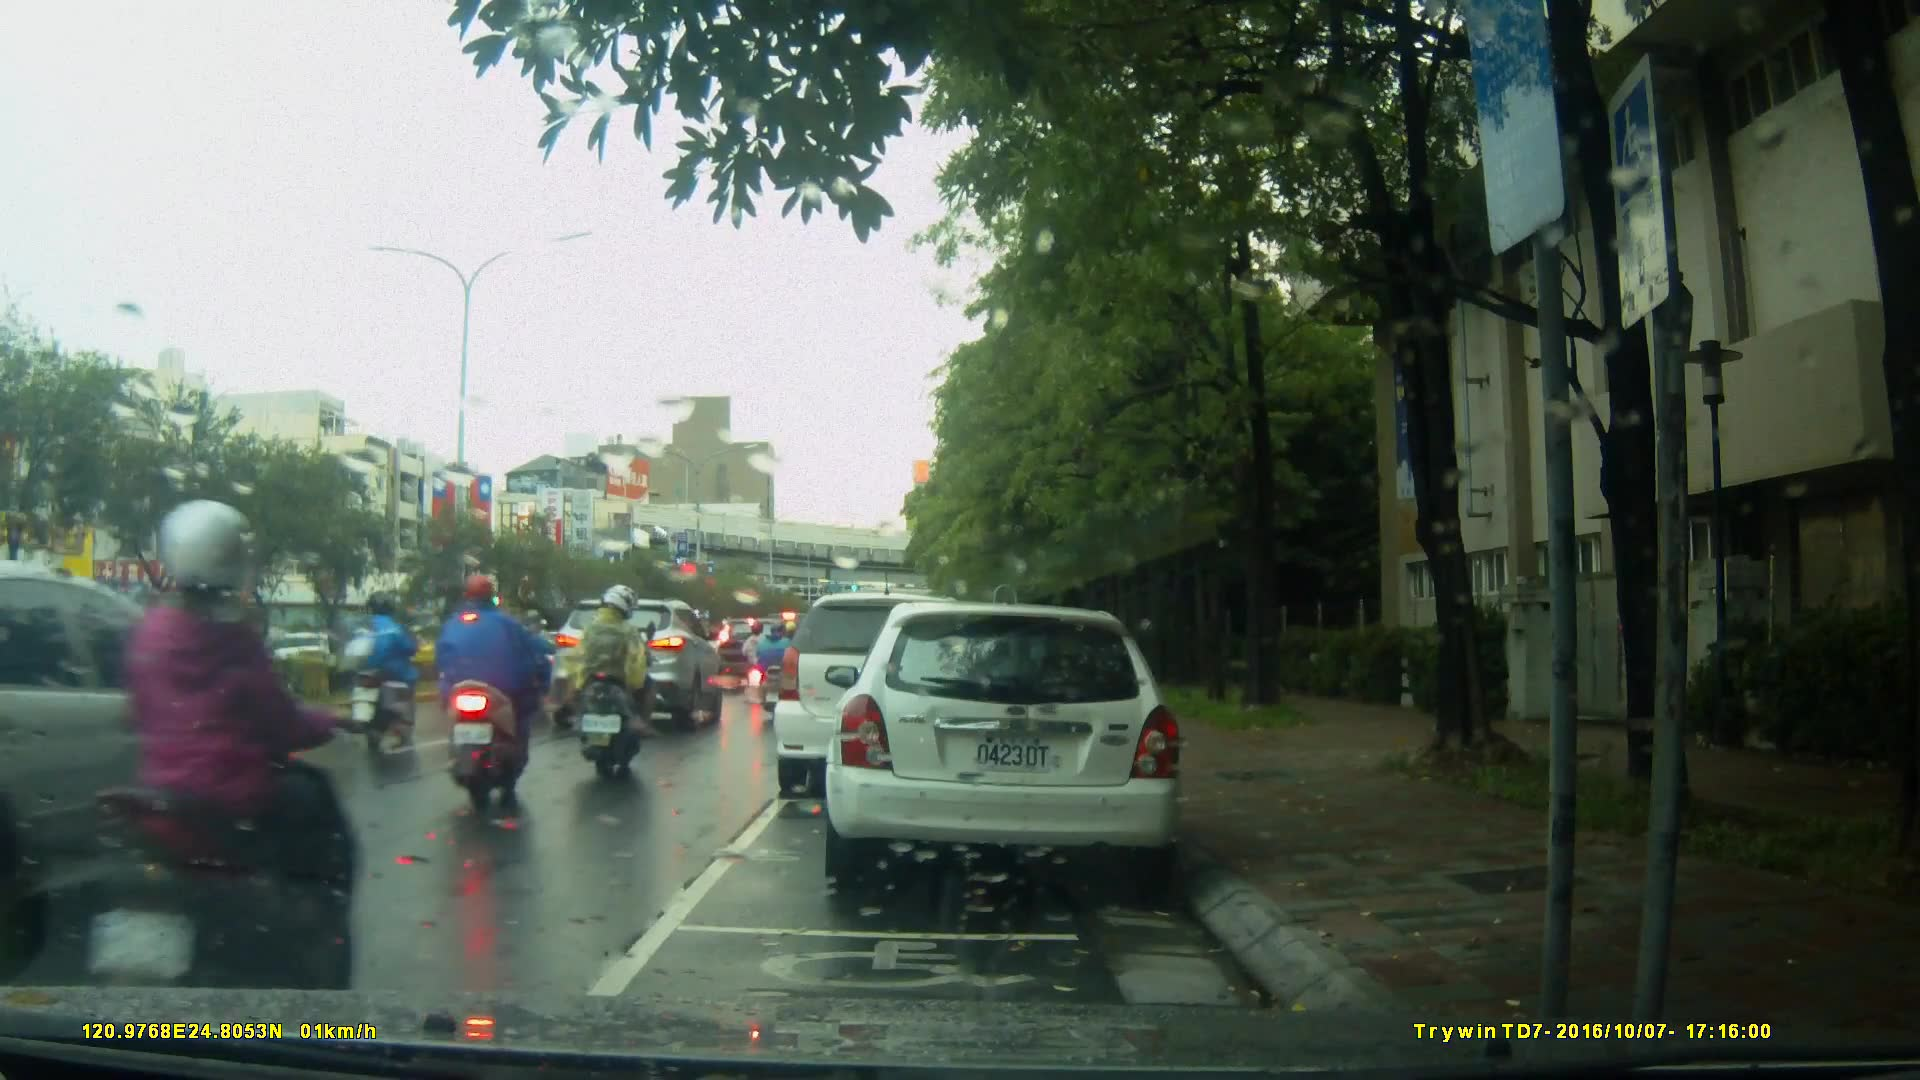rider: (20, 493, 346, 1071), (443, 570, 539, 808), (563, 586, 655, 786), (345, 595, 421, 756), (499, 607, 569, 705), (749, 617, 802, 711), (745, 620, 780, 706)
vehicle: (822, 604, 1188, 883), (774, 595, 995, 802), (547, 599, 723, 733)
